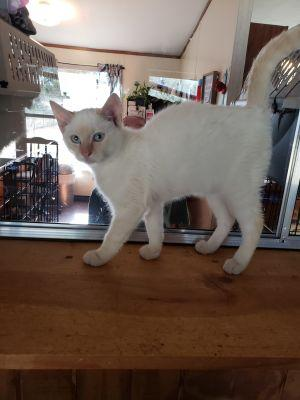siamese: (46, 88, 134, 180)
